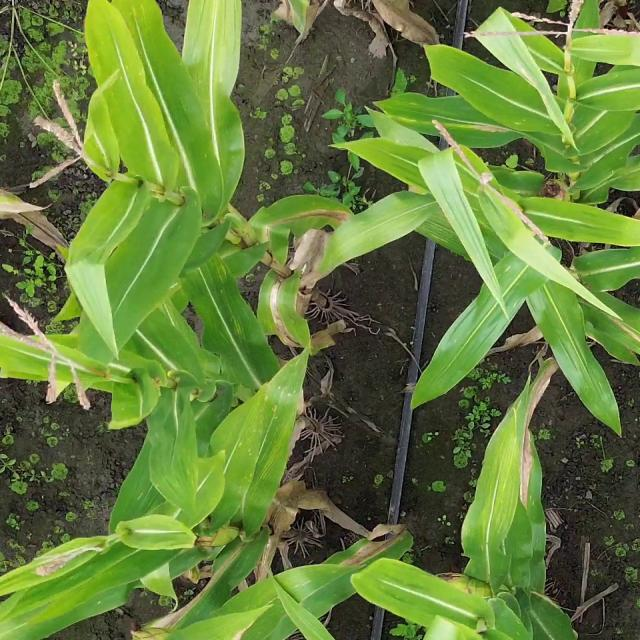gray-leaf-spot: (490, 465, 541, 589), (206, 276, 269, 362)
northern-leaf-blight: (264, 264, 323, 352)
southern-leaf-blight: (232, 364, 303, 476), (522, 98, 626, 165)
